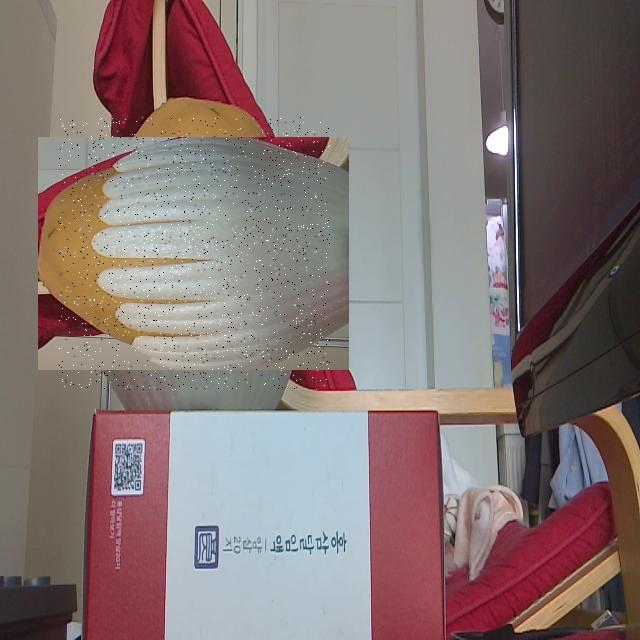pear: (58, 117, 330, 390)
